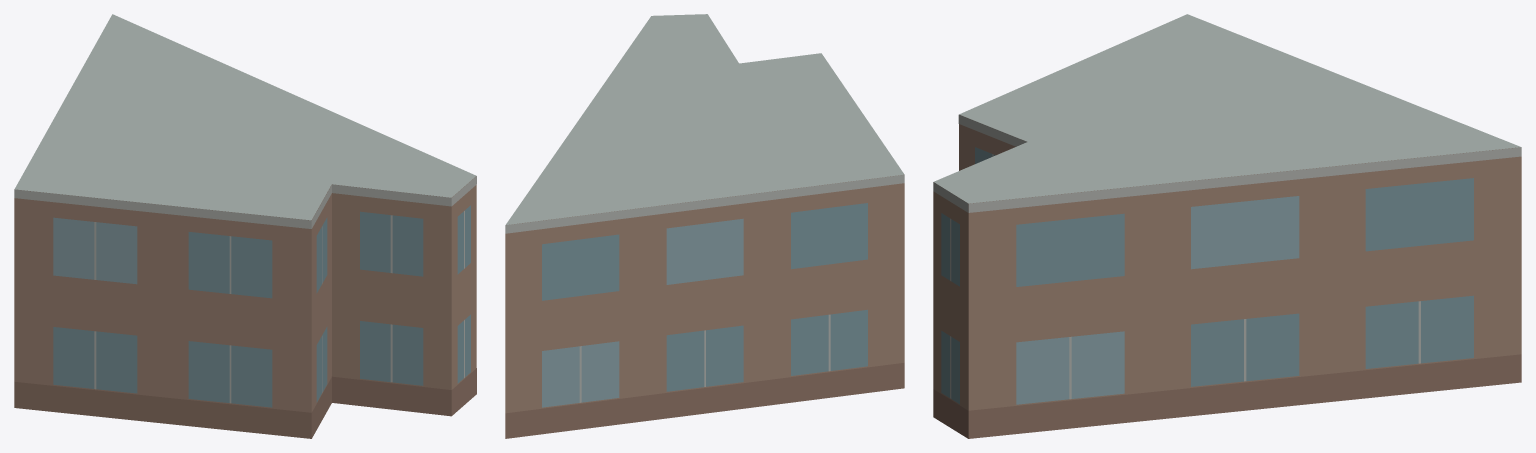
The model's file is survey-upis-32756928.glb.
3 renders of one model, left to right at view 1: azimuth 30°, elevation 25°; view 2: azimuth 150°, elevation 25°; view 3: azimuth 270°, elevation 25°, orthographic. The views are drawn at different scales.
Parts seen in each view (by area): view 1: survey-upis-32756928.tmp; view 2: survey-upis-32756928.tmp; view 3: survey-upis-32756928.tmp.
Part boxes in pixels (box(x1,y1,x2,y2)): survey-upis-32756928.tmp: box(14, 14, 476, 438); survey-upis-32756928.tmp: box(505, 14, 904, 438); survey-upis-32756928.tmp: box(933, 14, 1521, 438).
Bounding box in the file's own units: 10.55 × 6.1 × 13.83.
